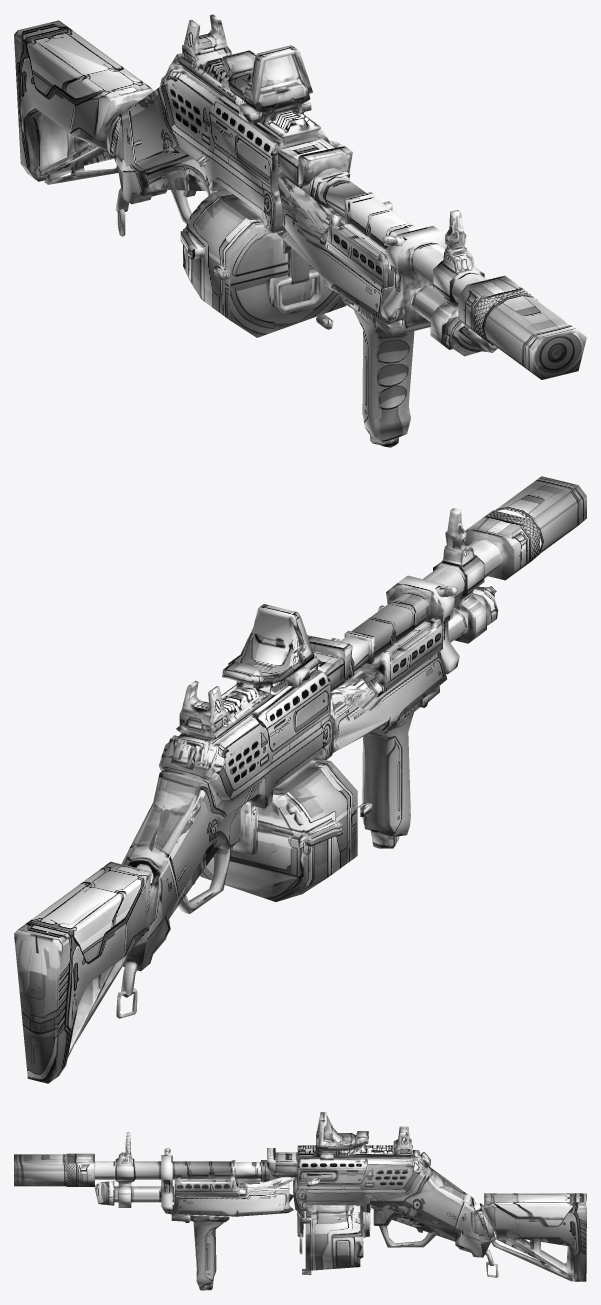
3 renders of one model, top to bottom at view 1: azimuth 30°, elevation 25°; view 2: azimuth 150°, elevation 25°; view 3: azimuth 270°, elevation 25°, orthographic. The views are drawn at different scales.
Parts seen in each view (by area): view 1: gun; view 2: gun; view 3: gun.
Part boxes in pixels (x1,y1,x2,y2): gun: (14,14,586,447); gun: (14,476,586,1083); gun: (14,1112,586,1290).
Bounding box in the file's own units: 0.3986 × 0.8557 × 2.58.
Materials: 4 (4 with a texture image).
